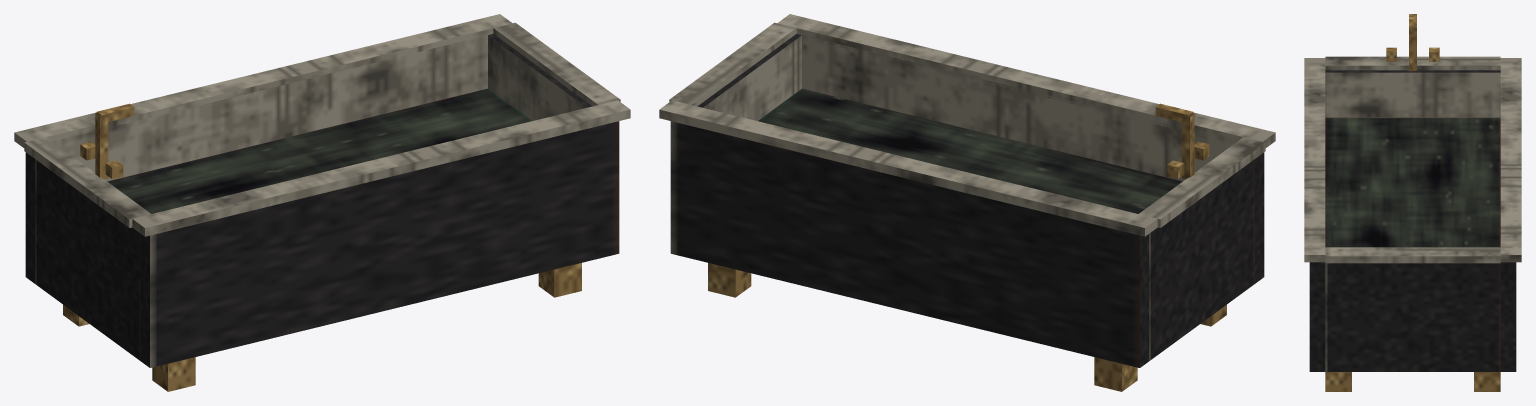
File: Furn_Bathtub.fbx
3 views of the same model, side by side, from view 1: azimuth 30°, elevation 25°; view 2: azimuth 150°, elevation 25°; view 3: azimuth 270°, elevation 25° (orthographic). The views are drawn at different scales.
Visible parts, largest first — view 1: Furn_Bathtub; view 2: Furn_Bathtub; view 3: Furn_Bathtub.
Part boxes in pixels (left/top/right/bottom): Furn_Bathtub: left=14, top=14, right=630, bottom=391; Furn_Bathtub: left=659, top=14, right=1275, bottom=391; Furn_Bathtub: left=1304, top=14, right=1521, bottom=391.
Bounding box in the file's own units: 1.78 × 0.845 × 0.82.
